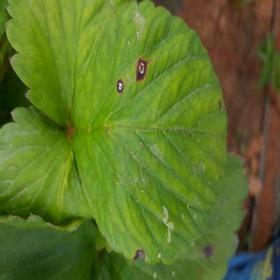Leaf Spot: (71, 0, 228, 265), (98, 154, 251, 279)
